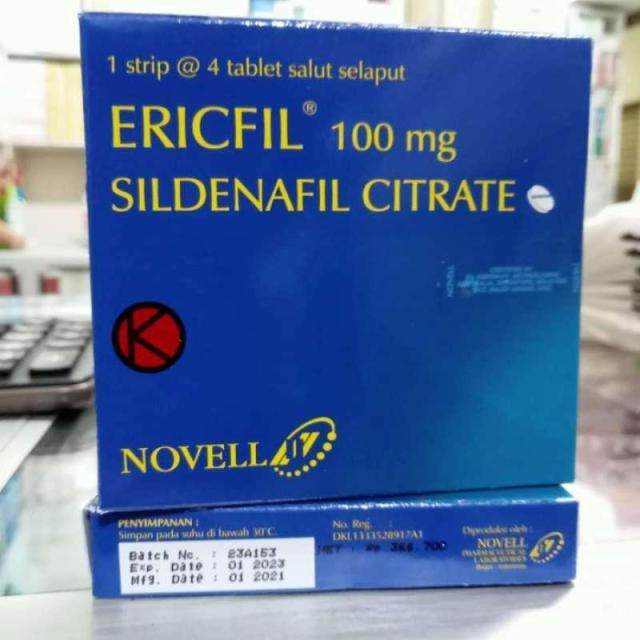drug-name: (102, 96, 324, 152)
